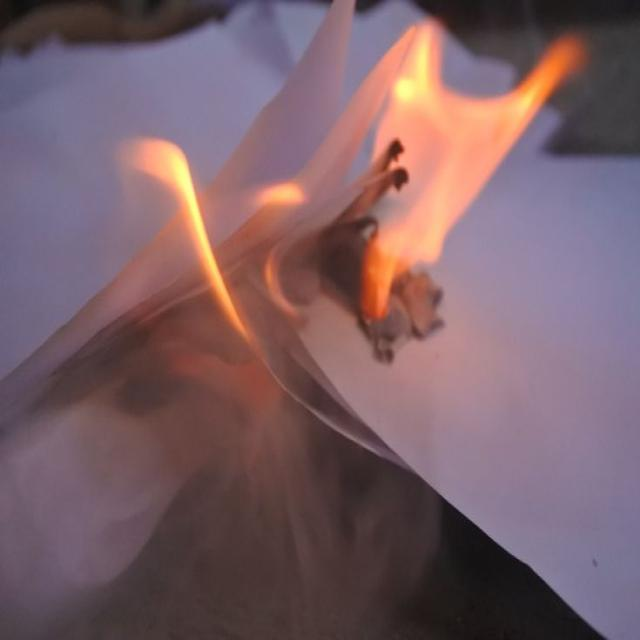fire: (360, 19, 584, 323), (114, 134, 245, 337)
